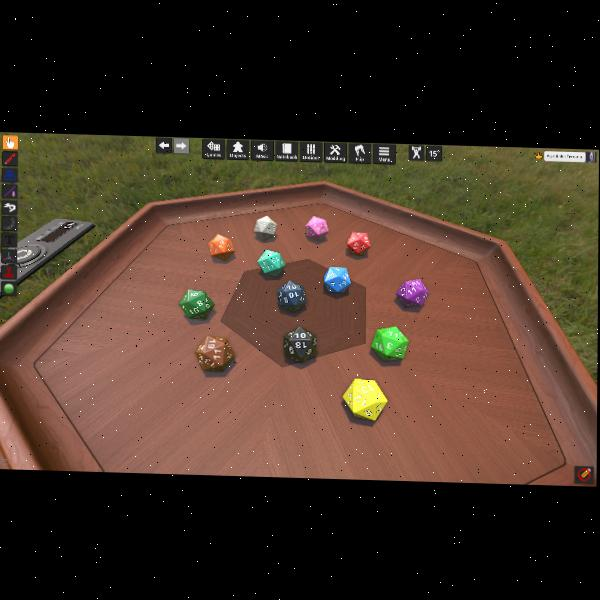d20: (344, 377, 388, 421), (196, 334, 235, 373), (370, 326, 407, 362), (282, 324, 315, 362), (179, 288, 212, 320), (396, 277, 428, 308), (275, 281, 305, 313), (258, 248, 286, 276), (208, 234, 234, 261), (323, 267, 349, 293), (347, 230, 370, 255), (254, 216, 277, 240), (306, 215, 327, 240)
